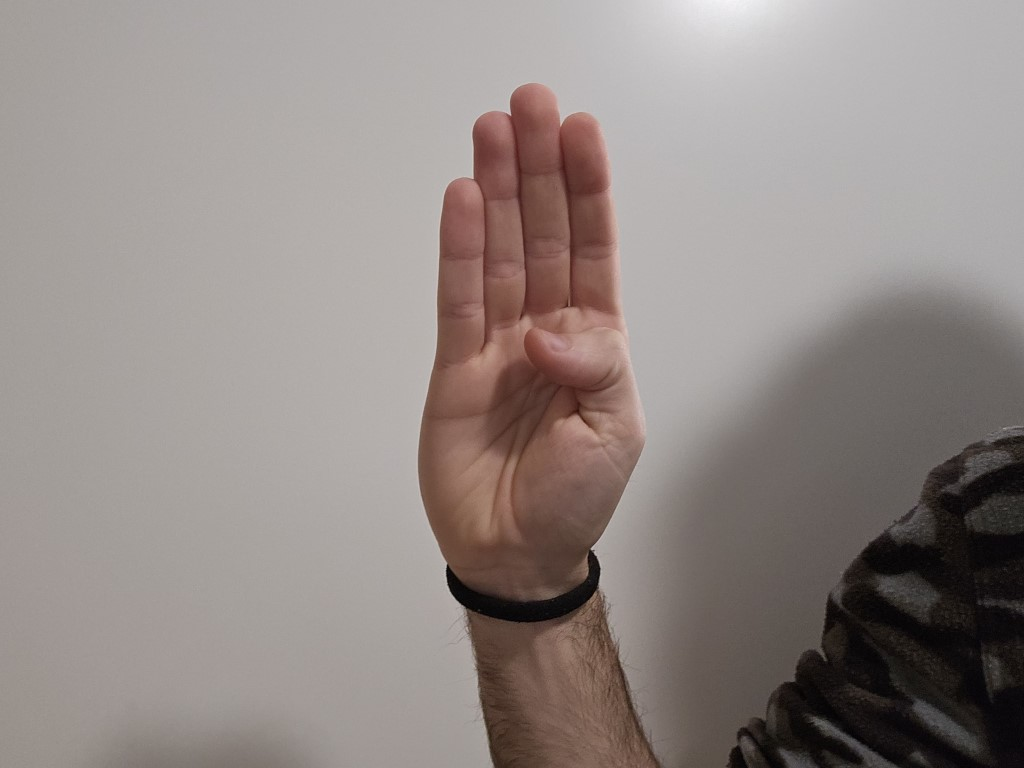b: (412, 80, 651, 603)
